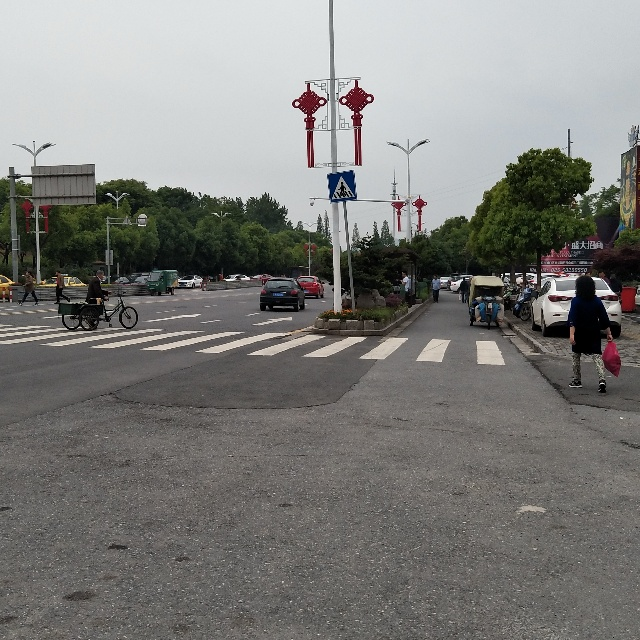crosswalk: (330, 174, 357, 202)
